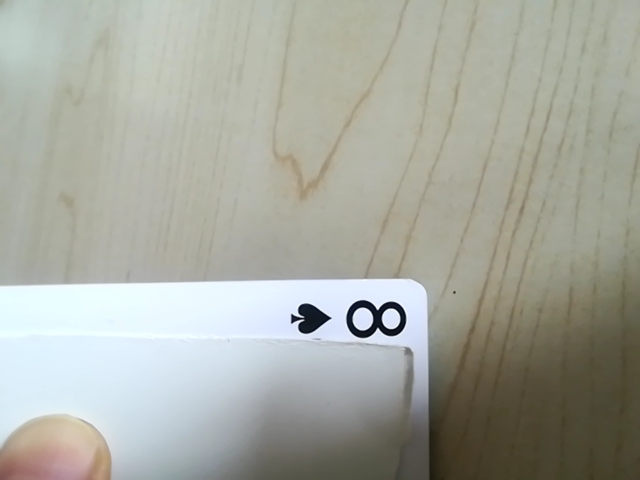ht 8: (268, 282, 431, 357)
